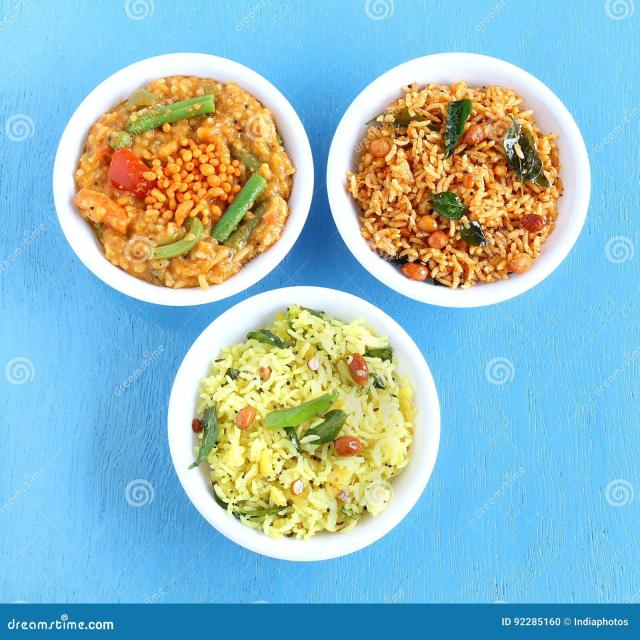puliyogare: (328, 53, 586, 306)
